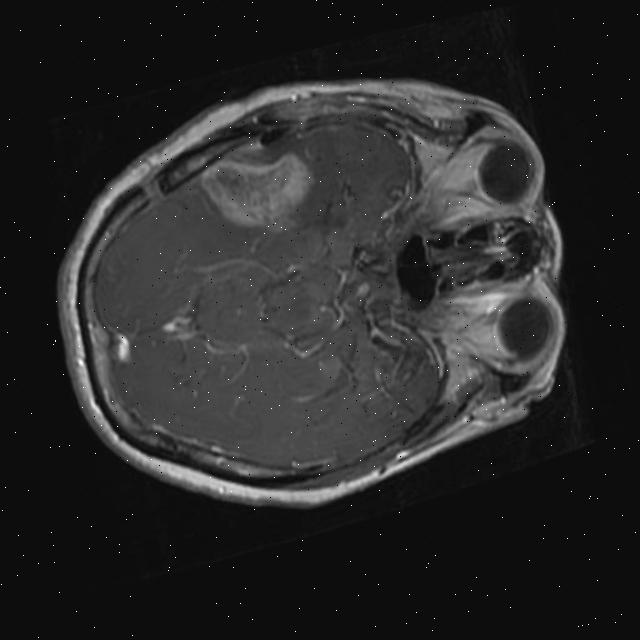Glioma: (194, 131, 325, 252)
